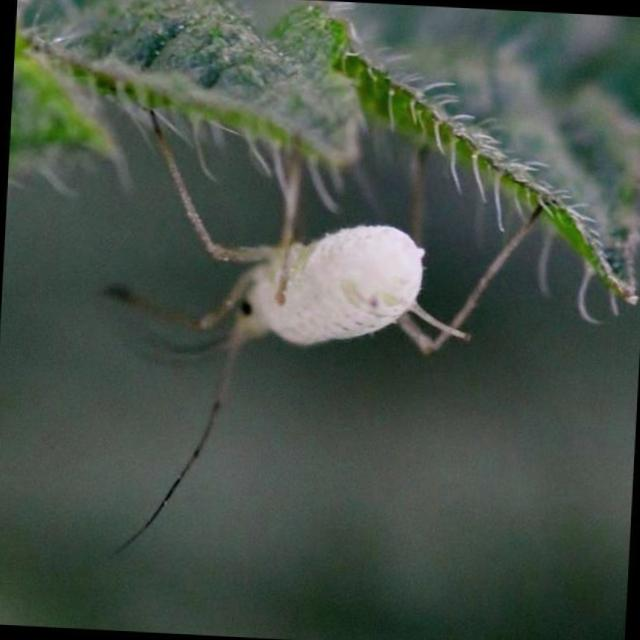aphid: (75, 125, 537, 574)
